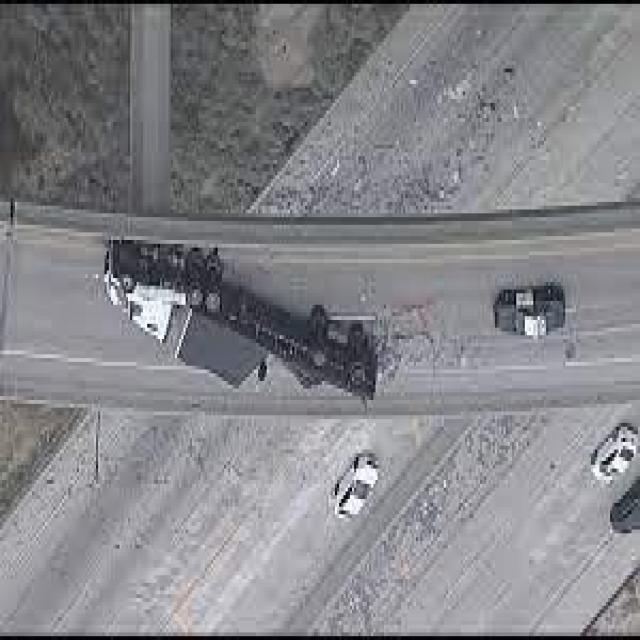severe: (98, 248, 393, 397)
